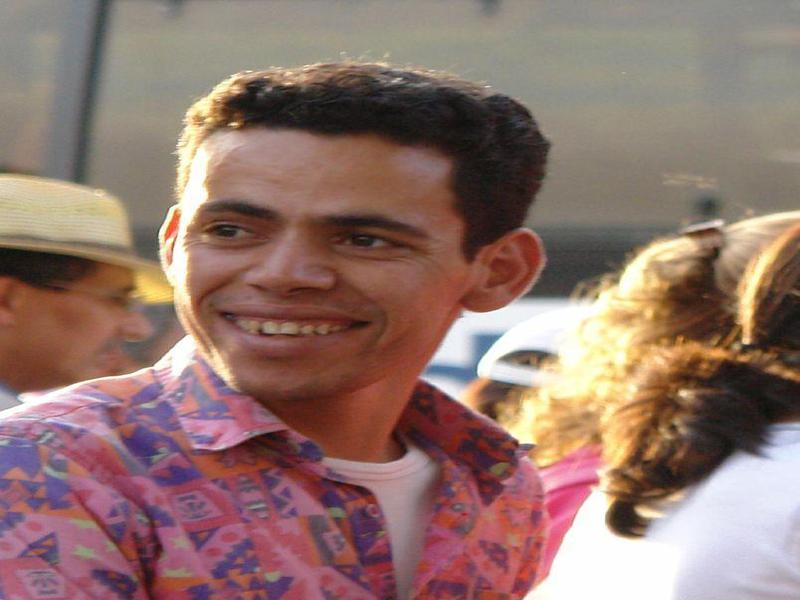person: (9, 58, 553, 600)
